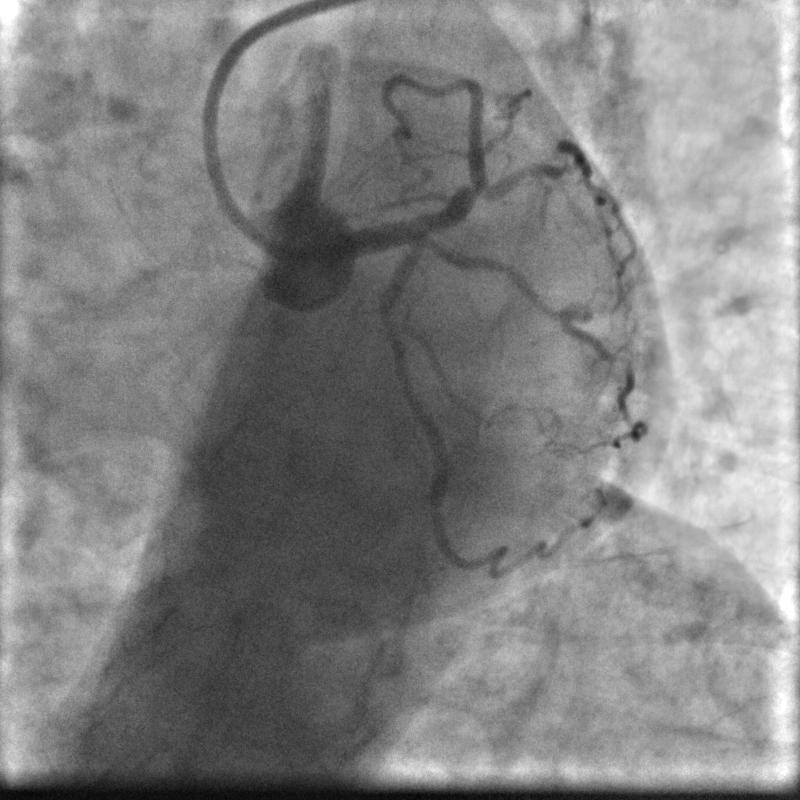Stenosis: (377, 305, 402, 345)
